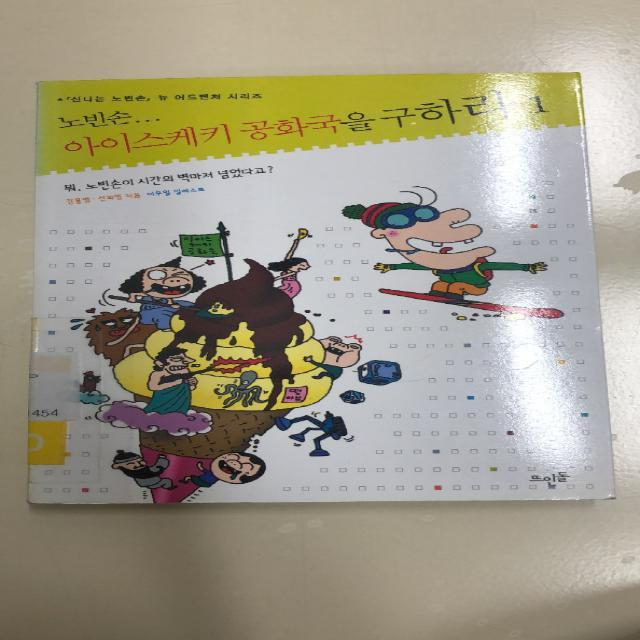Wornout: (524, 486, 620, 503), (32, 73, 123, 88), (21, 496, 108, 508)
